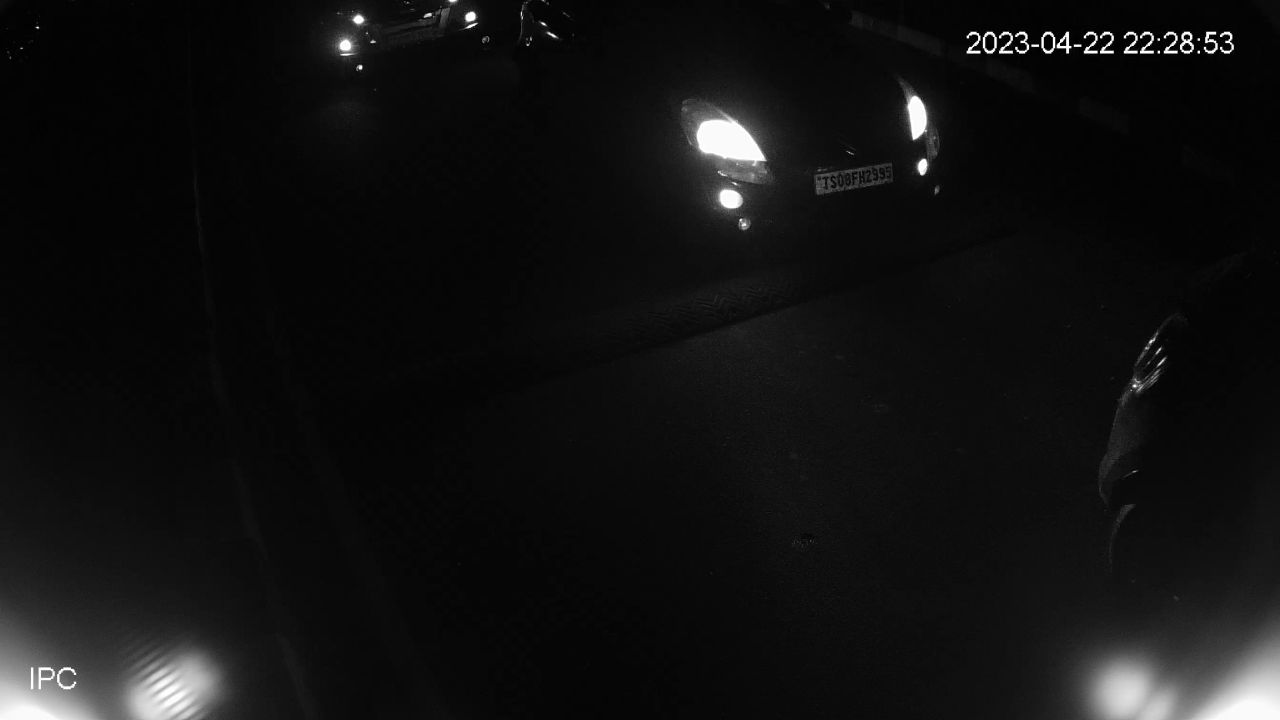license_plate: (807, 158, 900, 203)
